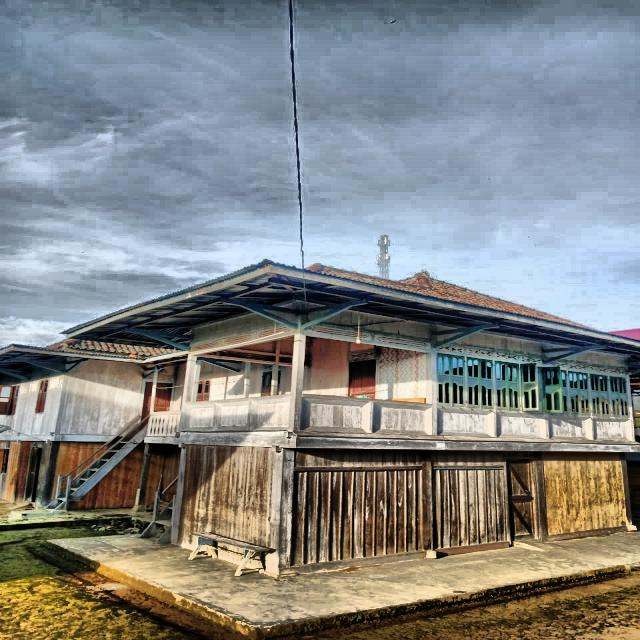column: (269, 445, 296, 576), (171, 444, 187, 545), (532, 450, 547, 543), (422, 450, 433, 552), (136, 443, 154, 505), (620, 452, 634, 527)
door: (507, 460, 535, 540), (348, 359, 376, 399), (31, 447, 43, 503), (154, 383, 173, 412), (141, 382, 153, 421)
ornamen: (301, 398, 370, 433), (373, 402, 432, 435), (437, 407, 494, 437), (496, 412, 546, 439), (250, 399, 290, 429), (549, 416, 591, 440), (594, 418, 632, 441), (216, 402, 248, 428), (146, 414, 181, 437), (185, 404, 215, 429)
roof: (67, 260, 639, 356), (0, 339, 173, 384), (45, 338, 174, 358)
stair: (44, 414, 149, 512), (138, 476, 179, 543)
wall: (291, 449, 422, 567), (436, 332, 547, 443), (177, 445, 275, 550), (545, 352, 634, 445), (303, 336, 426, 400), (432, 451, 508, 549), (543, 452, 627, 536), (56, 360, 144, 434), (70, 443, 144, 509), (0, 365, 64, 435), (52, 442, 107, 500), (199, 361, 246, 400)
window: (521, 363, 563, 413), (437, 352, 465, 407), (466, 356, 494, 409), (494, 360, 521, 411), (568, 371, 590, 416), (590, 374, 610, 416), (610, 376, 630, 417), (0, 384, 20, 415), (35, 378, 49, 413), (196, 379, 210, 402), (261, 371, 272, 397)
